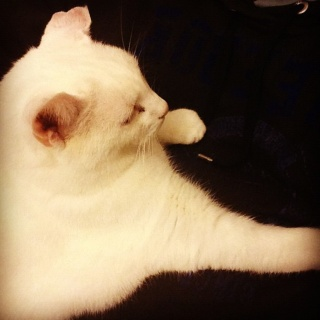Cat: (0, 3, 319, 319)
